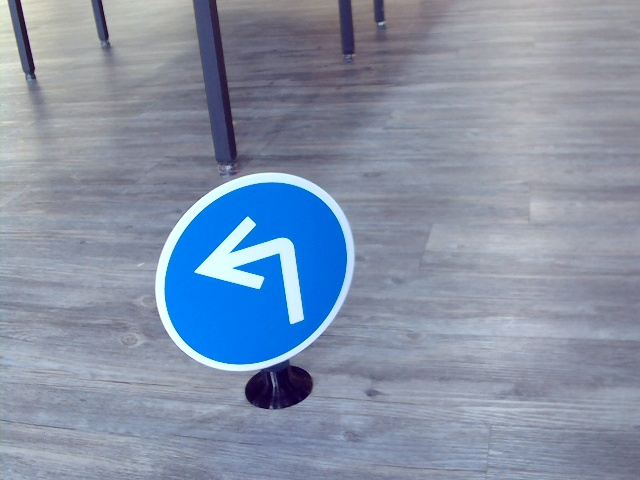turn_left: (192, 218, 315, 328)
